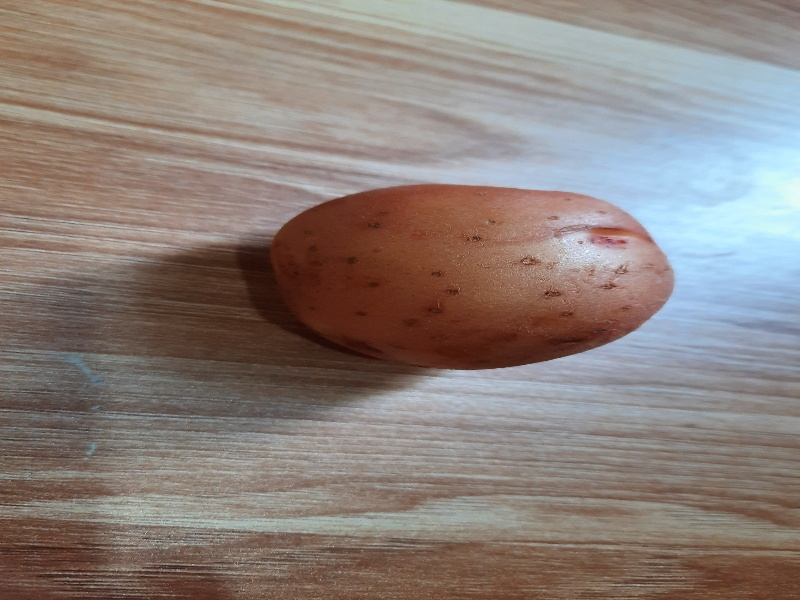vege: (265, 181, 678, 409)
